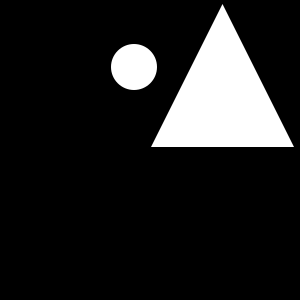rectangle: (111, 44, 157, 90)
triangle: (151, 4, 294, 147)
